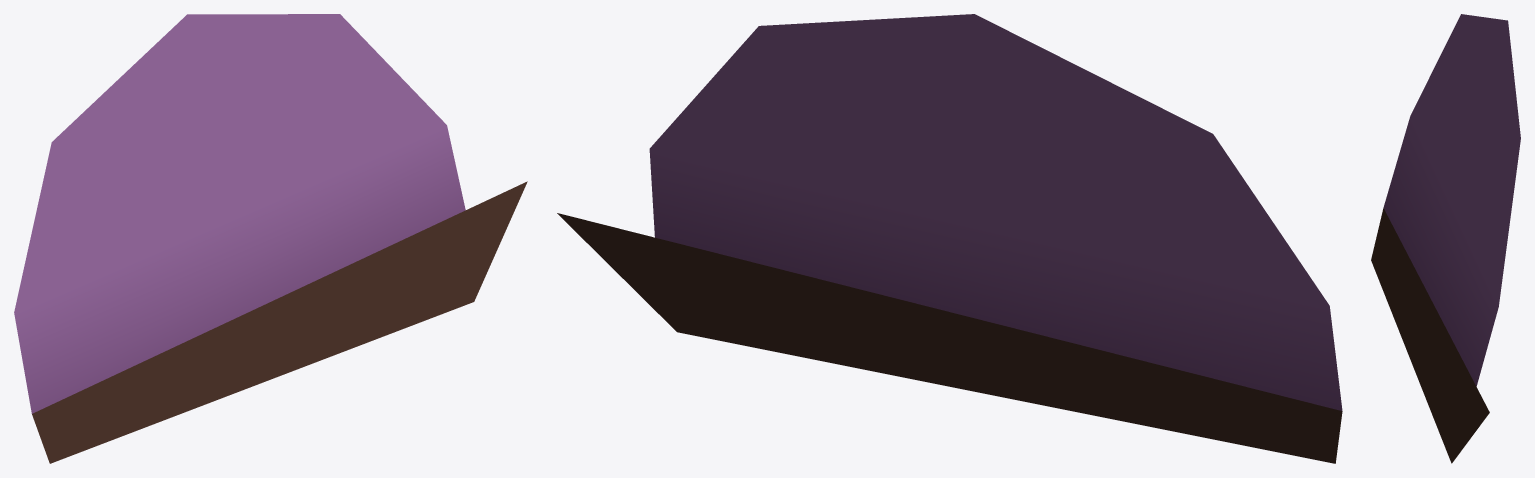
The model's file is scareCrowTopEyeLidLashPurpleLeft.glb.
3 renders of one model, left to right at view 1: azimuth 30°, elevation 25°; view 2: azimuth 150°, elevation 25°; view 3: azimuth 270°, elevation 25°, orthographic. The views are drawn at different scales.
Parts seen in each view (by area): view 1: scareCrowTopEyeLidLashPurpleLeft; view 2: scareCrowTopEyeLidLashPurpleLeft; view 3: scareCrowTopEyeLidLashPurpleLeft.
Boxes of the visible parts, x1,y1,x2,y2 form: scareCrowTopEyeLidLashPurpleLeft: [14, 14, 527, 463]; scareCrowTopEyeLidLashPurpleLeft: [557, 14, 1342, 463]; scareCrowTopEyeLidLashPurpleLeft: [1371, 14, 1520, 463].
Size of the model in its own units: 0.1181 by 0.0707 by 0.0284.
